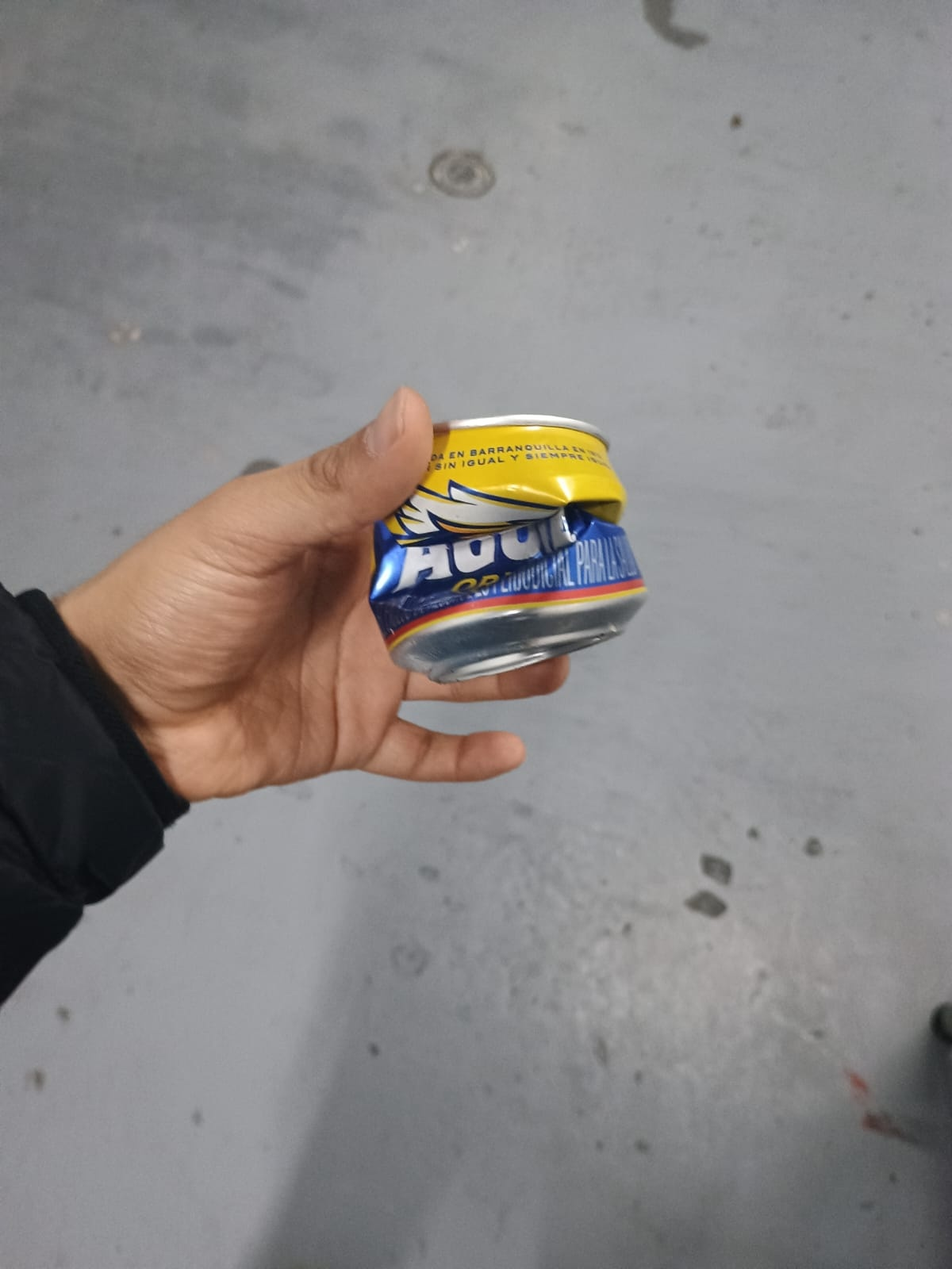Metal: (359, 412, 653, 683)
